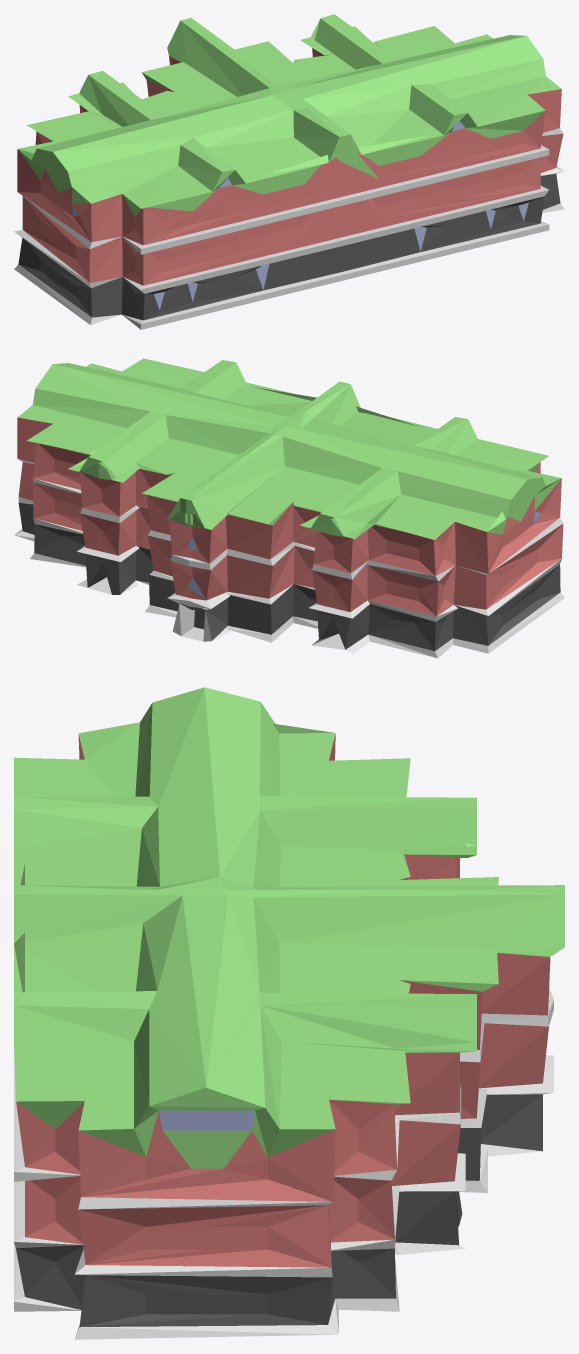
The model's file is MorHouse3_LOD3.fbx.
3 renders of one model, top to bottom at view 1: azimuth 30°, elevation 25°; view 2: azimuth 150°, elevation 25°; view 3: azimuth 270°, elevation 25°, orthographic. The views are drawn at different scales.
Visible parts, largest first — view 1: Cube.001; view 2: Cube.001; view 3: Cube.001.
Part boxes in pixels (box(x1,y1,x2,y2)): Cube.001: box(14, 14, 564, 329); Cube.001: box(14, 358, 564, 658); Cube.001: box(14, 687, 564, 1339).
Bounding box in the file's own units: 8600 × 2523 × 5000.
